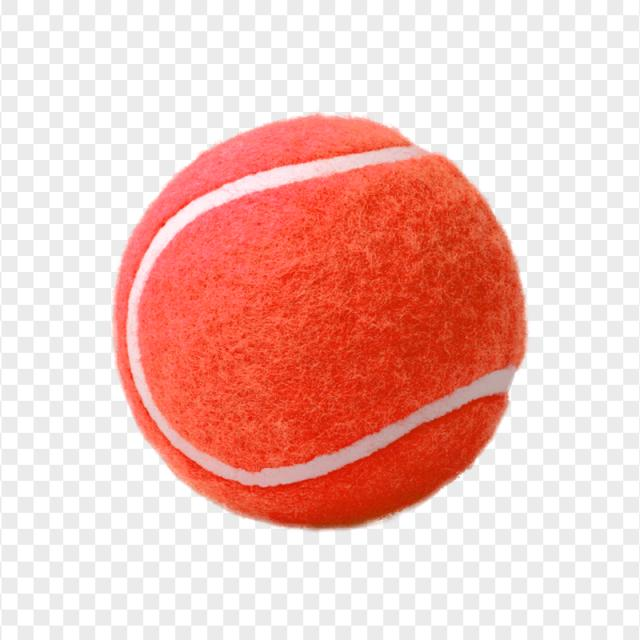tenis ball: (111, 112, 527, 531)
